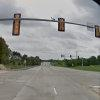Traffic light: (8, 7, 94, 51)
